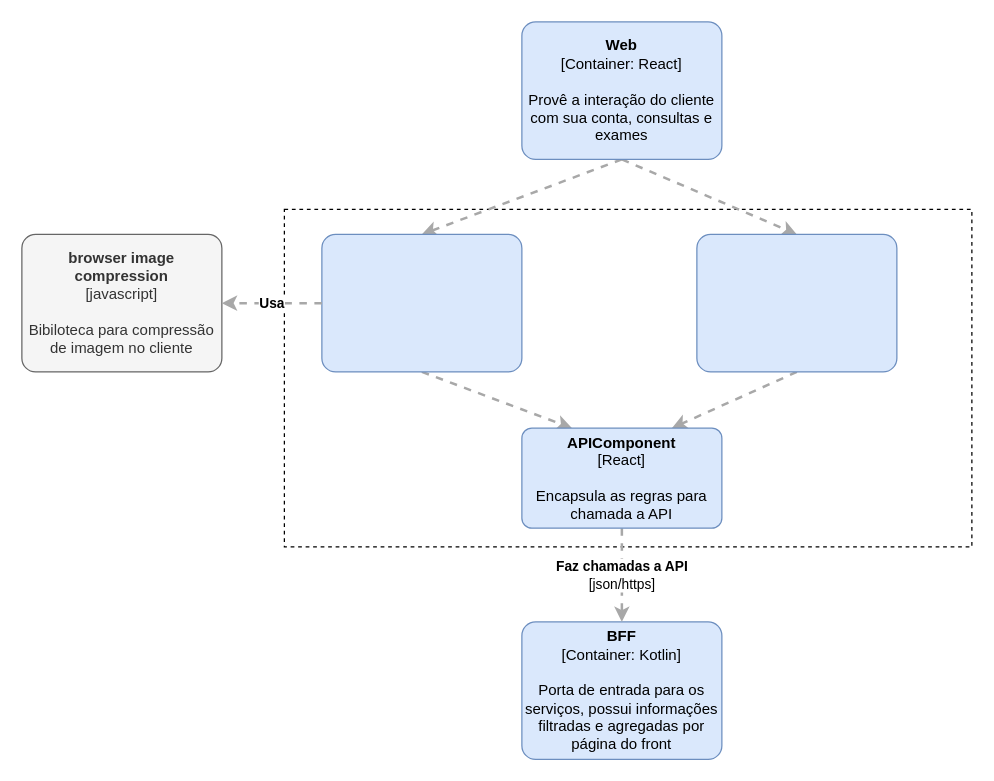
Some shapes in this 994 by 781 pixel diagram are drawn without their labels. The shapes that lost their labels are listed below. From the top down, each one's box as (x1, y1, x2, y2) in pixels, then its label:
(321, 233, 522, 372): ExamesComponent [React] Preenche dados dos exames e faz upload da imagem
(696, 233, 897, 372): ConsultaComponent [React] Exibe calendário com datas disponíveis para a consulta
